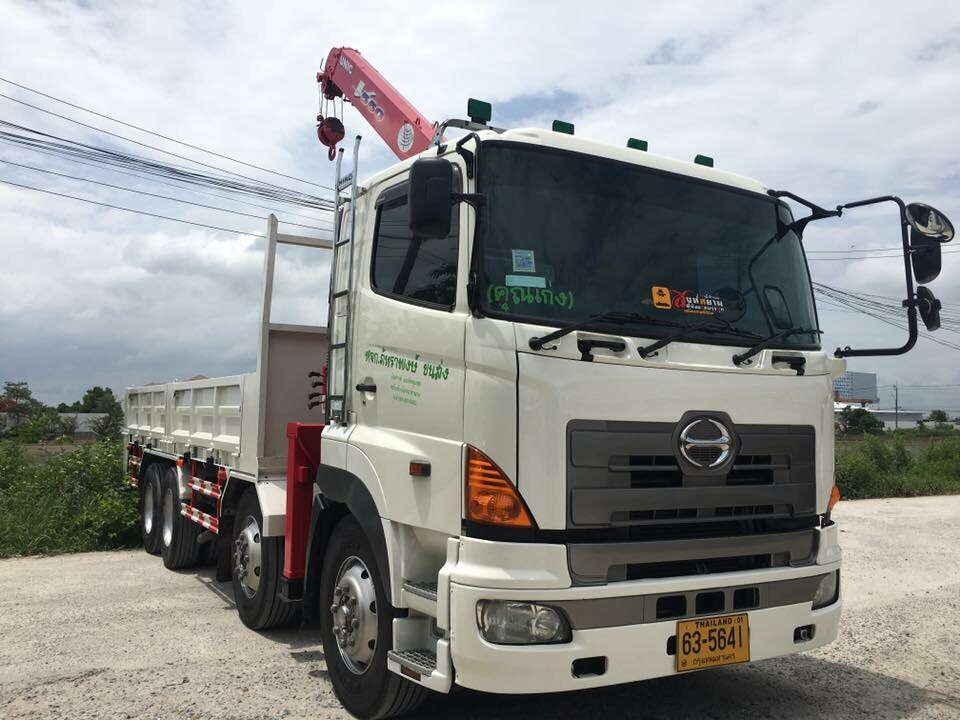truck: (305, 126, 840, 694)
